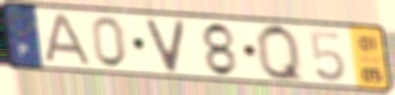0: (88, 14, 130, 70)
5: (308, 29, 348, 84)
8: (198, 19, 239, 79)
A: (39, 12, 95, 68)
Q: (253, 22, 309, 86)
V: (142, 17, 188, 74)
